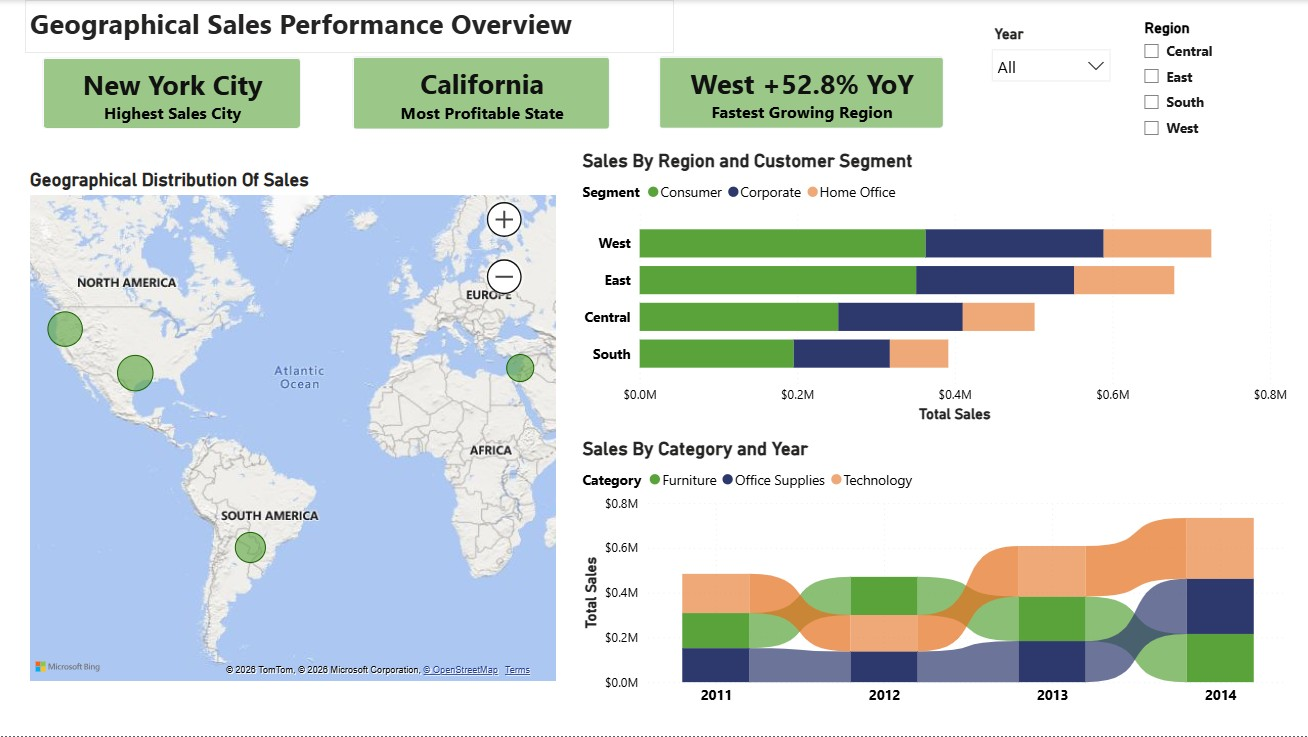

What the dashboard file says about the page in this screenshot:
{"tool":"powerbi","page":{"name":"Geographic Performance Analysis","canvas":[1280,720],"ordinal":2},"visuals":[{"type":"map","title":"Geographical Distribution Of Sales","fields":{"Category":["superstore.Region Hierarchy.Region","superstore.Region Hierarchy.State","superstore.Region Hierarchy.City"],"Size":["Sum(superstore.Sales)"]},"box":[24.5,164.5,524.1,506.9],"z":0},{"type":"barChart","title":"Sales By Region and Customer  Segment","fields":{"Y":["Sum(superstore.Sales)"],"Series":["superstore.Segment"],"Category":["superstore.Region Hierarchy.Region","superstore.Region Hierarchy.State"]},"box":[564.6,147.3,699.7,271.3],"z":1000},{"type":"ribbonChart","title":"Sales By Category and Year","fields":{"Y":["Sum(superstore.Sales)"],"Category":["Date Table.Year"],"Series":["superstore.Category"]},"box":[564.6,428.4,699.7,271.3],"z":2000},{"type":"cardVisual","title":"Highest City Sales","fields":{"Data":["superstore.Highest Sales City"]},"box":[24.5,39.3,287.2,104.3],"z":3000},{"type":"cardVisual","fields":{"Data":["superstore.Fastest Growing Region"]},"box":[627.2,38.1,313,105.6],"z":4000},{"type":"cardVisual","fields":{"Data":["superstore.Highest Profit State"]},"box":[327.7,38.1,286,106.8],"z":5000},{"type":"textbox","box":[24.5,0,634.6,51.6],"z":6000},{"type":"slicer","fields":{"Values":["Date Table.Year"]},"box":[959.9,19.6,136.2,70],"z":7000},{"type":"slicer","fields":{"Values":["superstore.Region"]},"box":[1107.2,13.5,136.2,130.1],"z":8000}]}

Visuals, with their boxes in screenshot pixels (x1, y1, x2, y2), scaled from the page's 1280x720 canvas onto the 1308x737 screenshot:
"Geographical Distribution Of Sales" map: crop(25, 168, 561, 687)
"Sales By Region and Customer  Segment" barChart: crop(577, 151, 1292, 428)
"Sales By Category and Year" ribbonChart: crop(577, 439, 1292, 716)
"Highest City Sales" cardVisual: crop(25, 40, 319, 147)
cardVisual - superstore.Fastest Growing Region: crop(641, 39, 961, 147)
cardVisual - superstore.Highest Profit State: crop(335, 39, 627, 148)
textbox: crop(25, 0, 674, 53)
slicer - Date Table.Year: crop(981, 20, 1120, 92)
slicer - superstore.Region: crop(1131, 14, 1271, 147)
